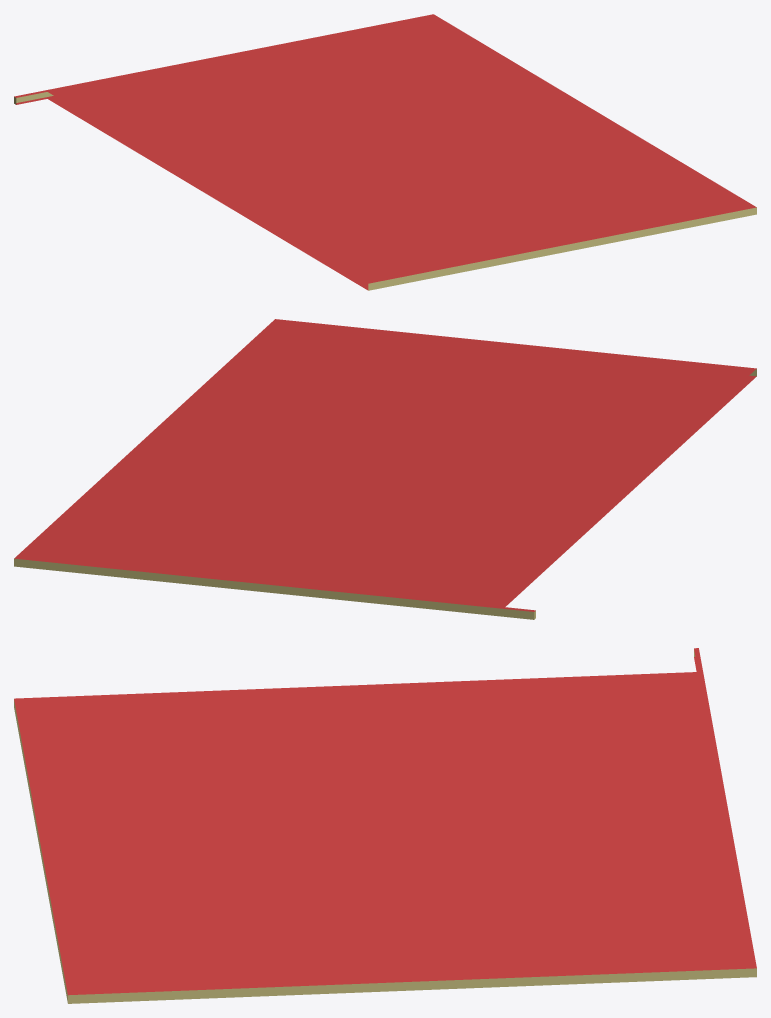
3 views of the same model, one above another, from view 1: azimuth 30°, elevation 25°; view 2: azimuth 150°, elevation 25°; view 3: azimuth 270°, elevation 25° (orthographic). The views are drawn at different scales.
Bounding box in the file's own units: 7.19 × 7.68 × 0.706.
